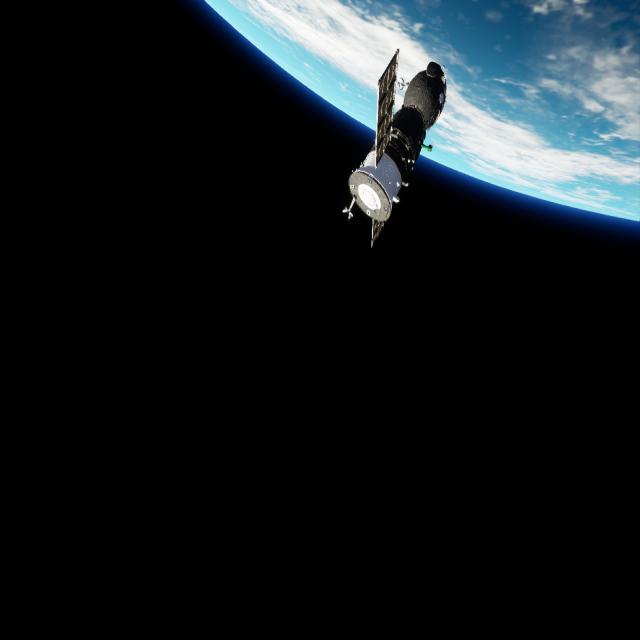Satellites revolving around earth: (341, 46, 449, 250)
